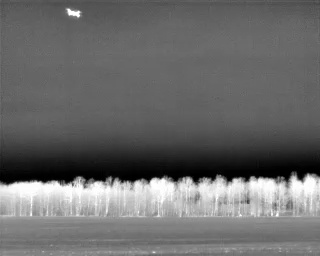DRONE: (62, 4, 85, 22)
